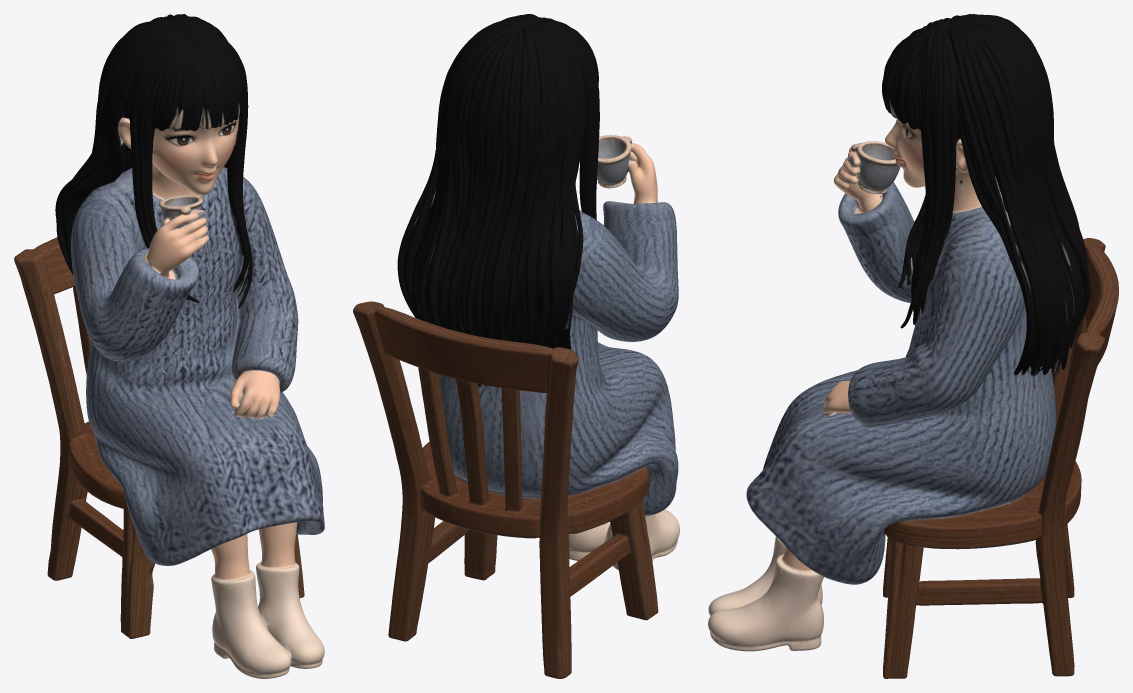
Rendered from rin.glb.
3 renders of one model, left to right at view 1: azimuth 30°, elevation 25°; view 2: azimuth 150°, elevation 25°; view 3: azimuth 270°, elevation 25°, orthographic. The views are drawn at different scales.
Size of the model in its own units: 0.761 by 1.9 by 1.16.
1 material, 1 textured.
